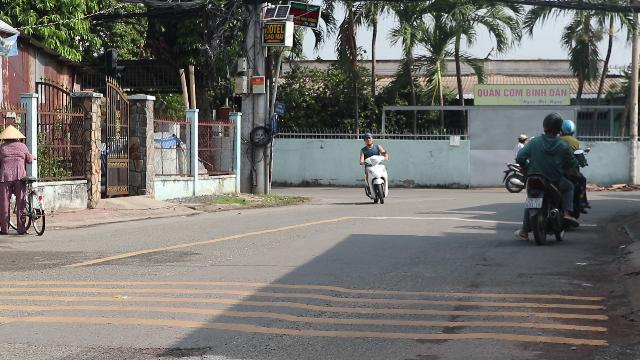helmet: (540, 112, 562, 136), (560, 119, 576, 135)
licenseplate: (526, 198, 542, 208)
motorcyclist: (514, 112, 590, 244)
